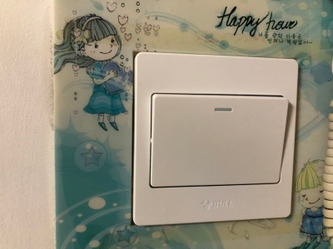switch: (148, 86, 290, 195)
